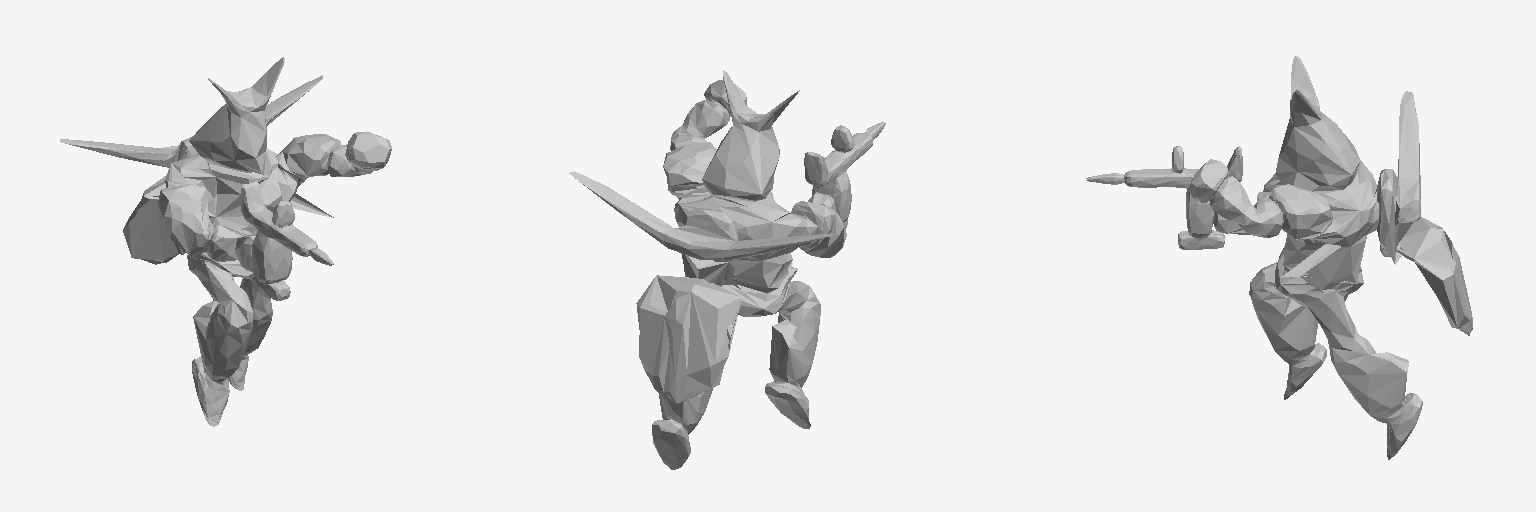
Rendered from playerjump.obj.
3 views of the same model, side by side, from view 1: azimuth 30°, elevation 25°; view 2: azimuth 150°, elevation 25°; view 3: azimuth 270°, elevation 25° (orthographic).
Visible parts, largest first — view 1: Cube; view 2: Cube; view 3: Cube.
Boxes of the visible parts, x1,y1,x2,y2 form: Cube: [60, 57, 391, 426]; Cube: [569, 70, 885, 469]; Cube: [1086, 56, 1472, 459].
Bounding box in the file's own units: 4.49 × 5.93 × 5.65.